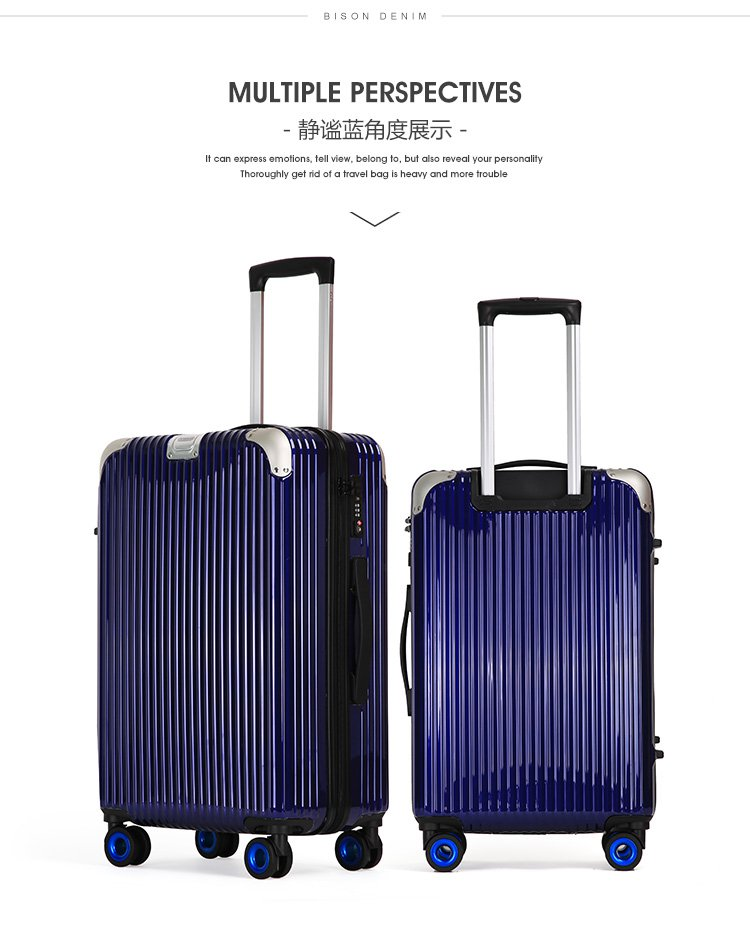luggage: (91, 256, 390, 880), (398, 295, 666, 874)
